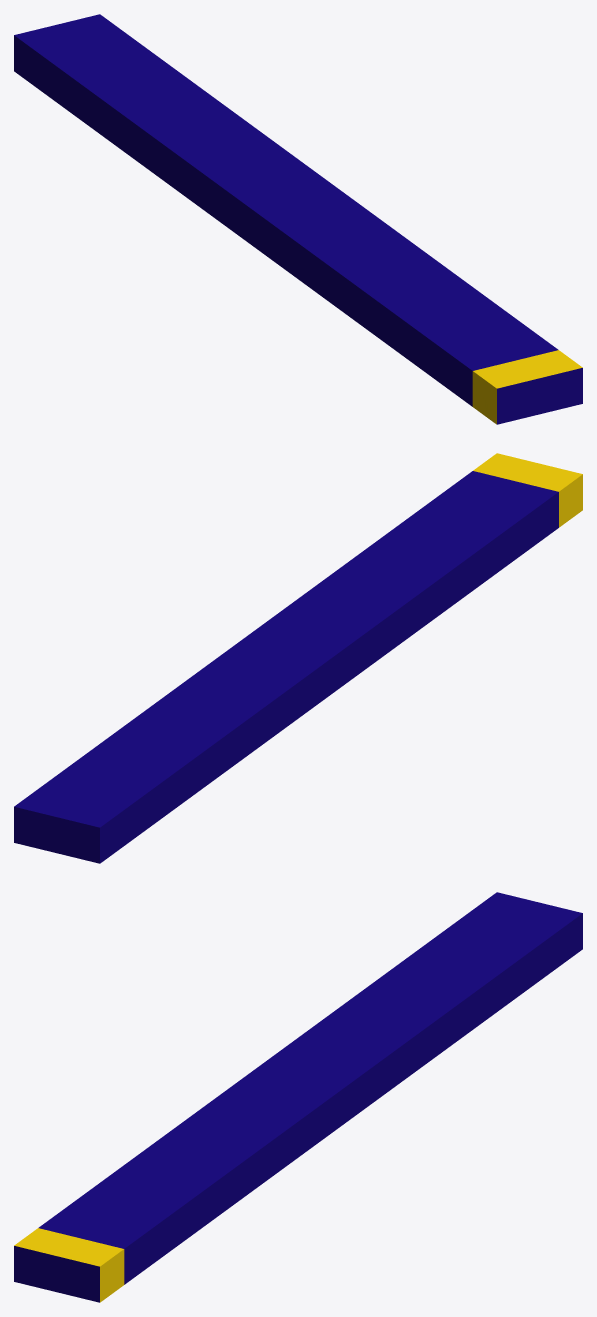
File: basecube.fbx
3 renders of one model, top to bottom at view 1: azimuth 30°, elevation 25°; view 2: azimuth 150°, elevation 25°; view 3: azimuth 330°, elevation 25°, orthographic.
Visible parts, largest first — view 1: Plane; view 2: Plane; view 3: Plane.
Part boxes in pixels (x1,y1,x2,y2): Plane: [14, 14, 582, 424]; Plane: [14, 453, 582, 863]; Plane: [14, 892, 582, 1302].
Size of the model in its own units: 506 by 203 by 4923.
